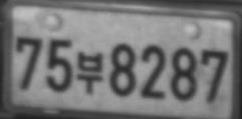2: (141, 44, 165, 99)
5: (46, 39, 72, 92)
7: (200, 49, 229, 102), (15, 37, 42, 89)
8: (170, 47, 197, 101), (109, 43, 135, 96)
부: (76, 51, 103, 94)
